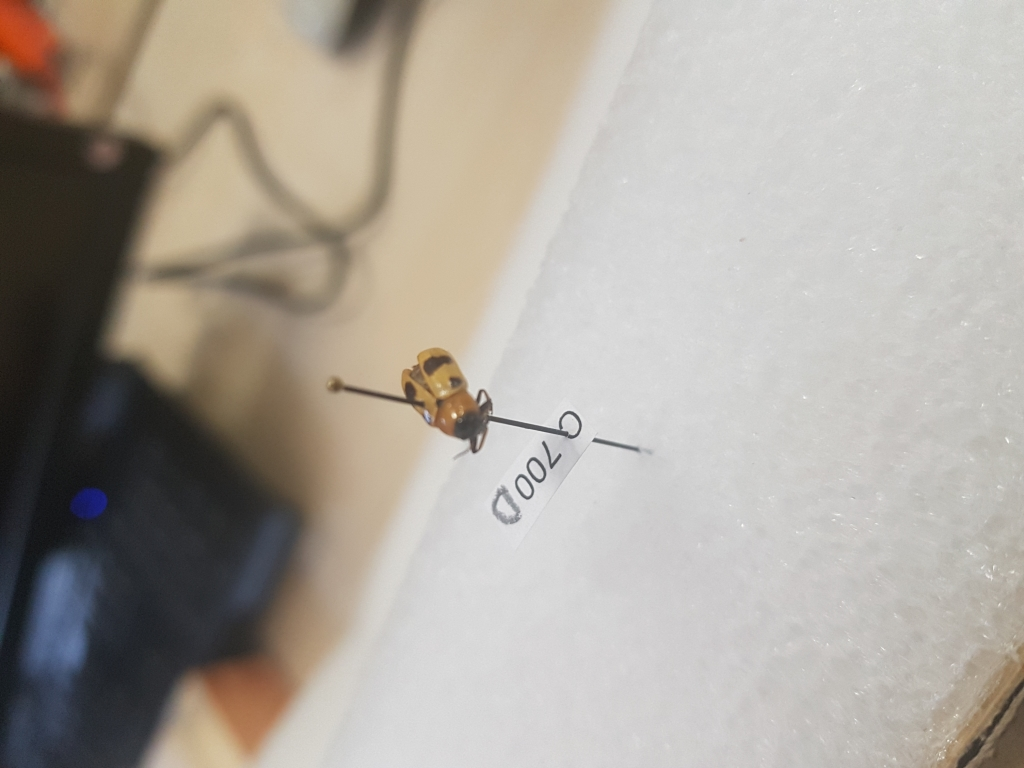Tituboea_macropus: (394, 340, 494, 456)
